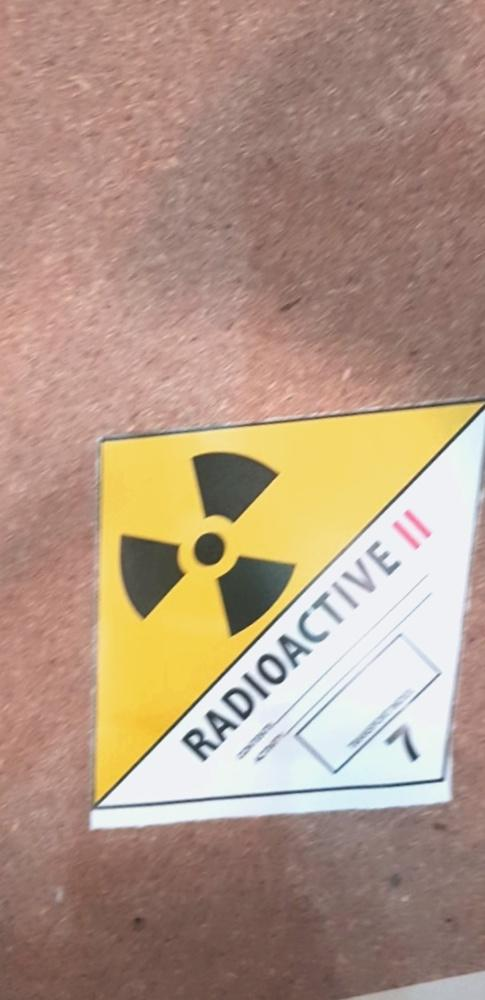radioactive: (94, 383, 485, 845)
